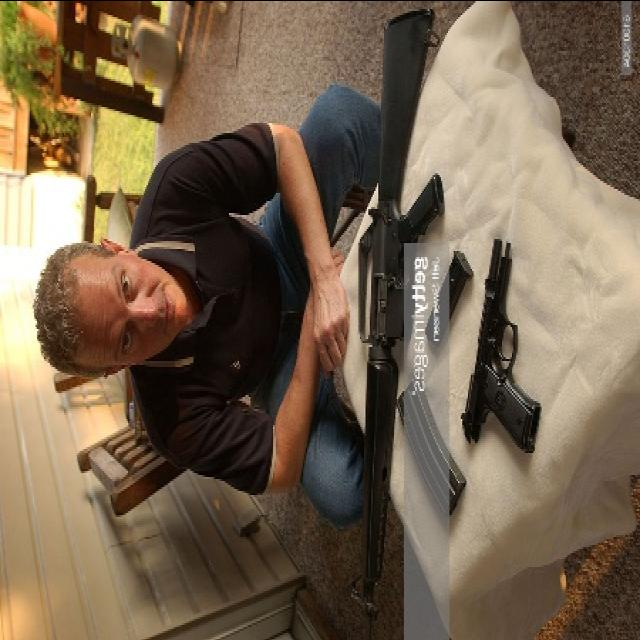handgun: (461, 229, 545, 451)
rifle: (350, 7, 441, 629)
